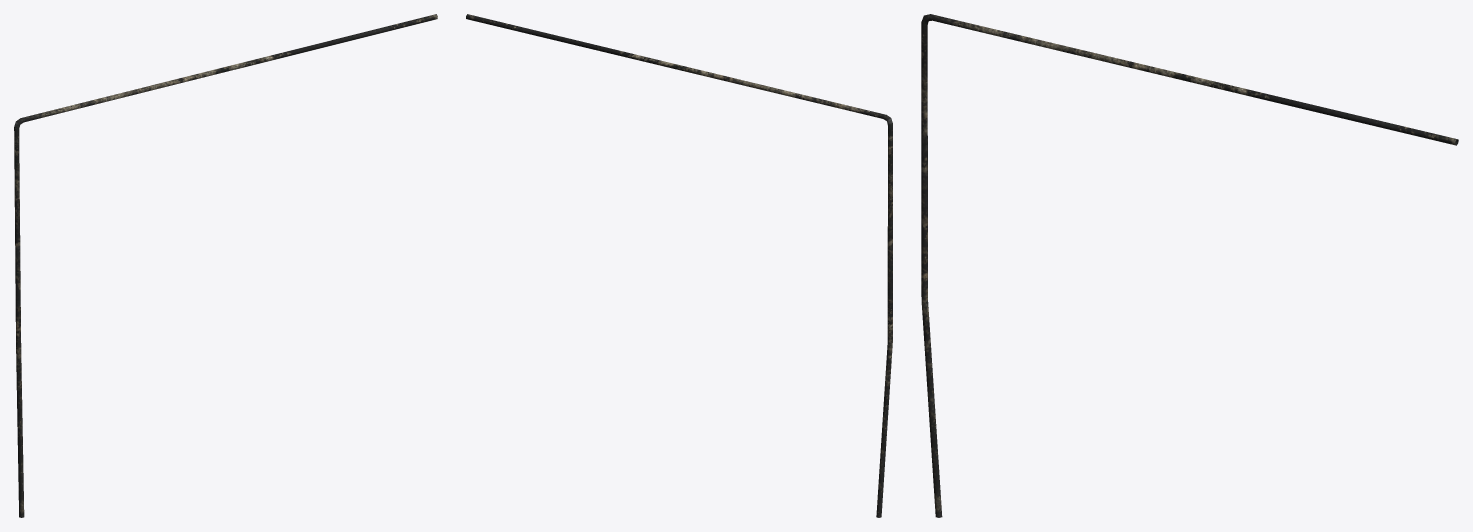
File: 90DegBlackWireCase_Lobby_T02.FBX
3 views of the same model, side by side, from view 1: azimuth 30°, elevation 25°; view 2: azimuth 150°, elevation 25°; view 3: azimuth 330°, elevation 25° (orthographic). The views are drawn at different scales.
Visible parts, largest first — view 1: 90DegBlackWireCase_Lobby_T02; view 2: 90DegBlackWireCase_Lobby_T02; view 3: 90DegBlackWireCase_Lobby_T02.
Part boxes in pixels (x1,y1,x2,y2): 90DegBlackWireCase_Lobby_T02: [14, 14, 437, 517]; 90DegBlackWireCase_Lobby_T02: [466, 14, 892, 517]; 90DegBlackWireCase_Lobby_T02: [921, 14, 1458, 517].
Size of the model in its own units: 173 by 157 by 4.73.
